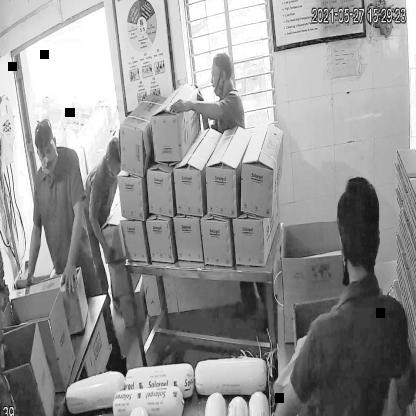no_goggles: (31, 140, 60, 165)
